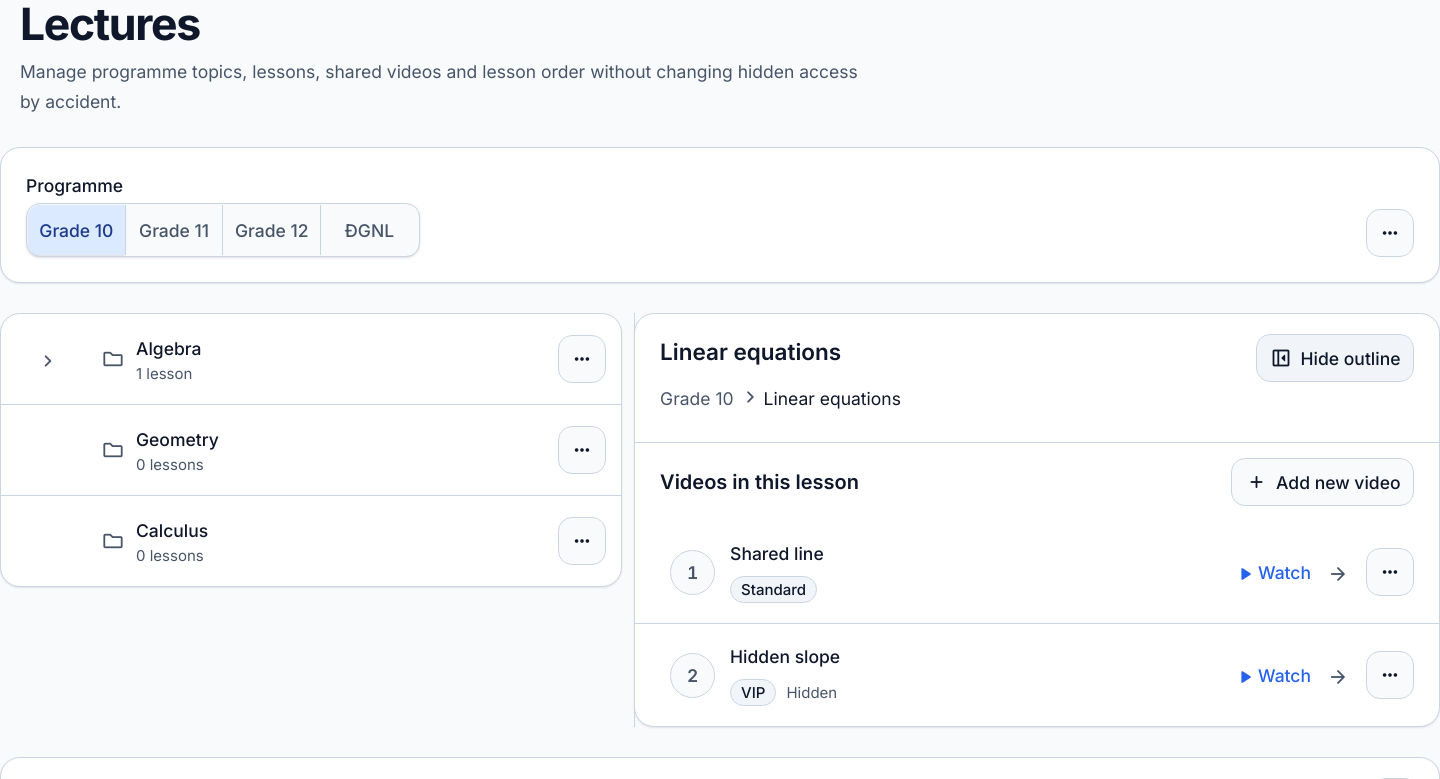
Test: TeacherLecturesPage curriculum management › keeps stale shared-video edits open, retains the draft, and disables duplicate resubmit
Click the button named "Unit actions for Shared line" at (1390, 572), box [1366,548,1414,596]
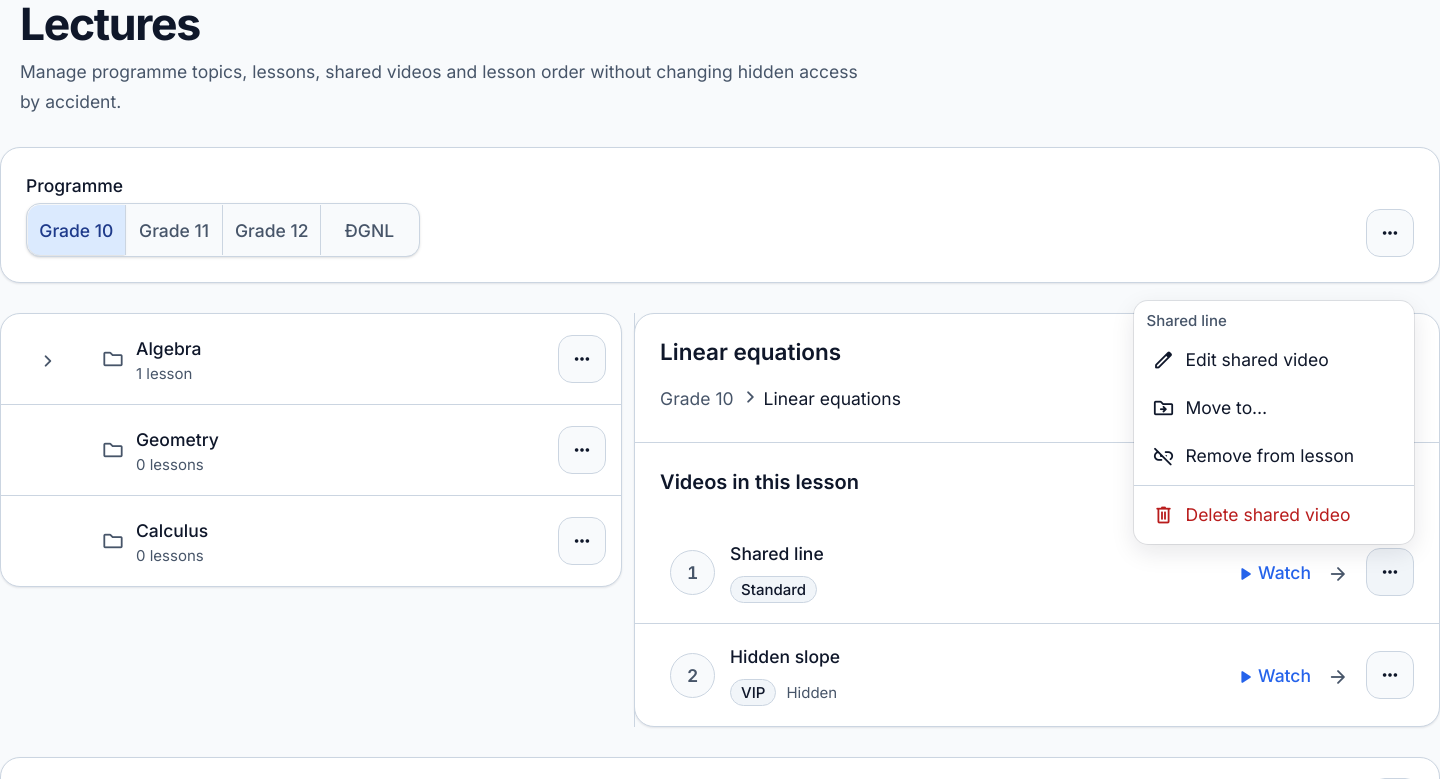
Click the menu item "Edit shared video" at (1240, 360), box [1152,348,1329,372]
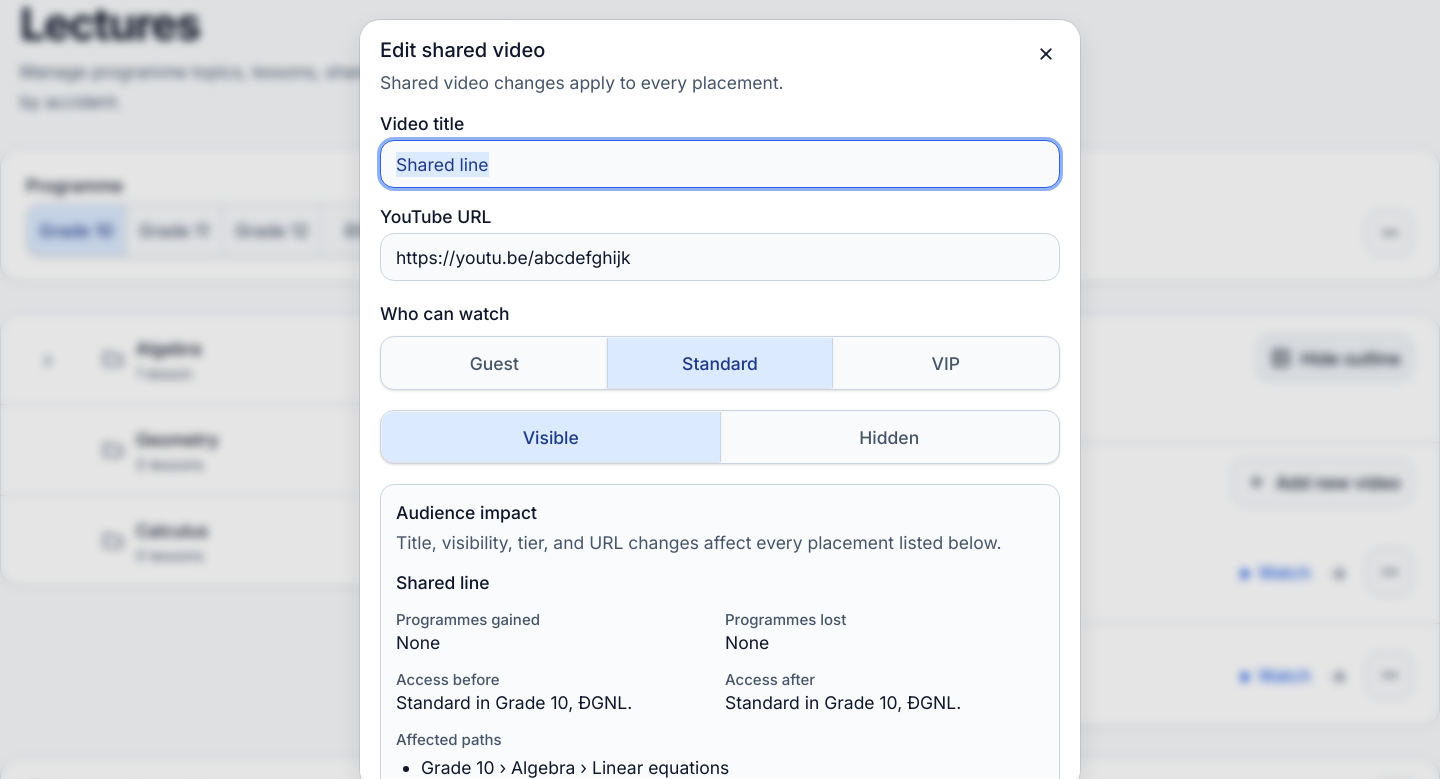
Replace the text in the field labelled "Video title" with "Retried title" at (720, 164), box [380,140,1060,188]
(page scrolled)
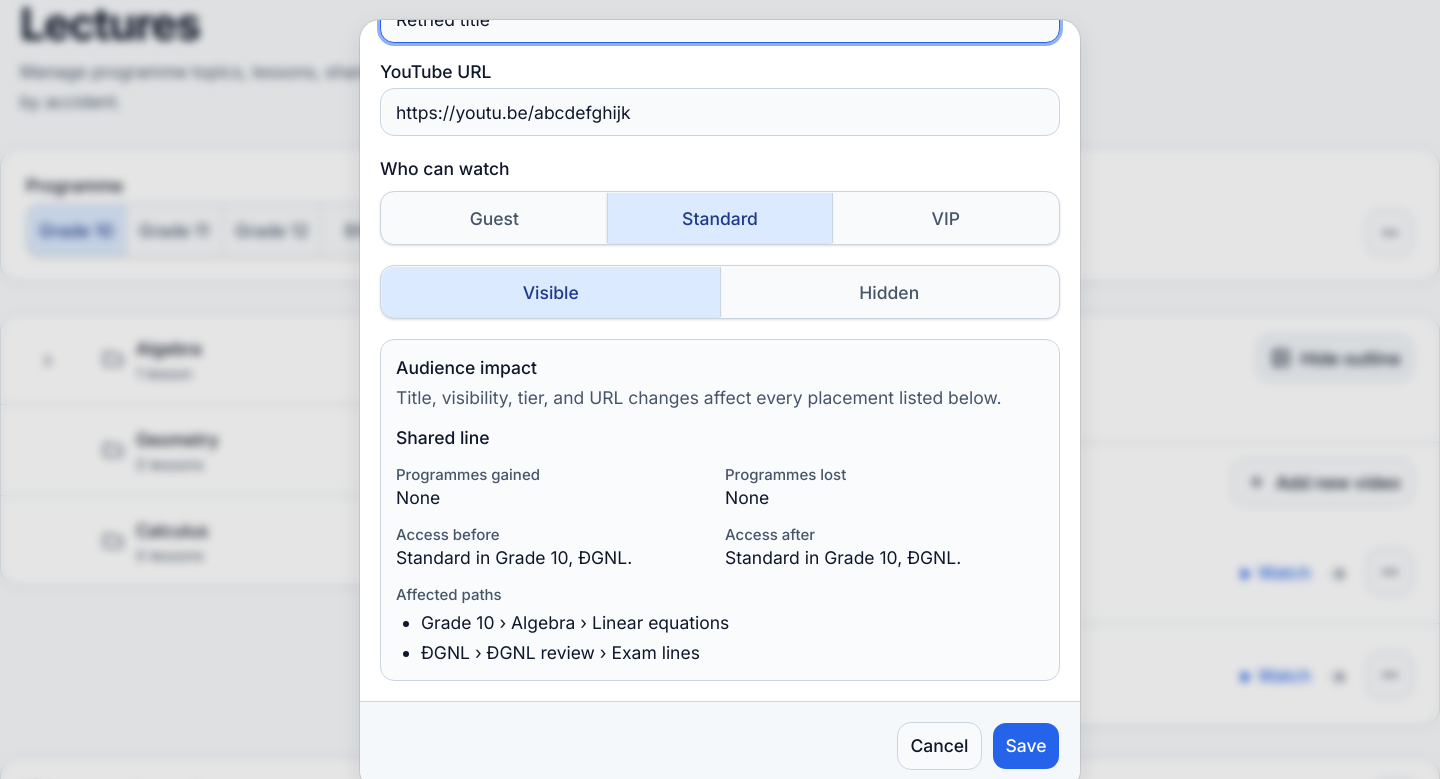
Click the button "Save" at (1026, 746), box [992,722,1060,770]
(page scrolled)
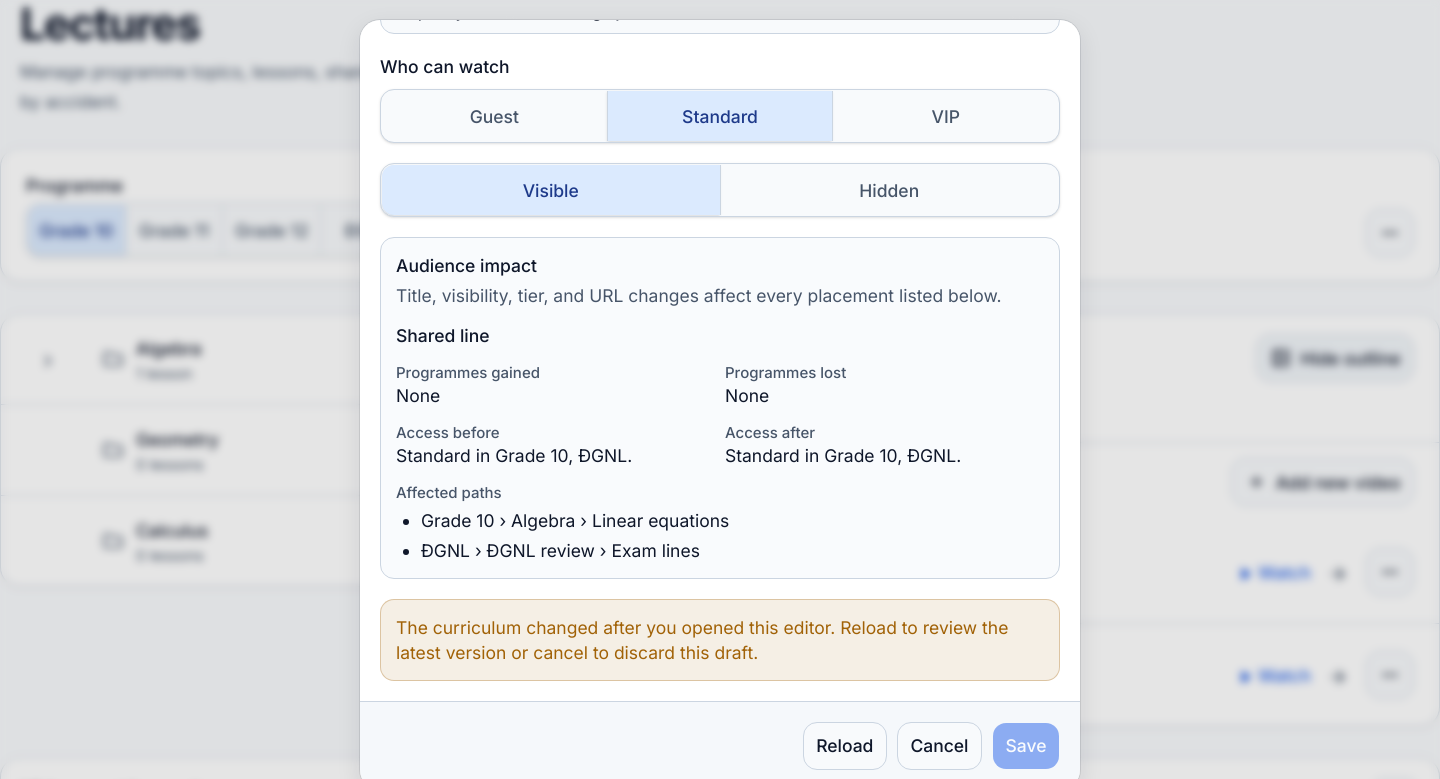
Check: the text "curriculum changed" is shown, box [396,617,1008,663]
Check: the button "Save" is disabled, box [992,722,1060,770]
Click the button "Reload" at (845, 746), box [803,722,887,770]
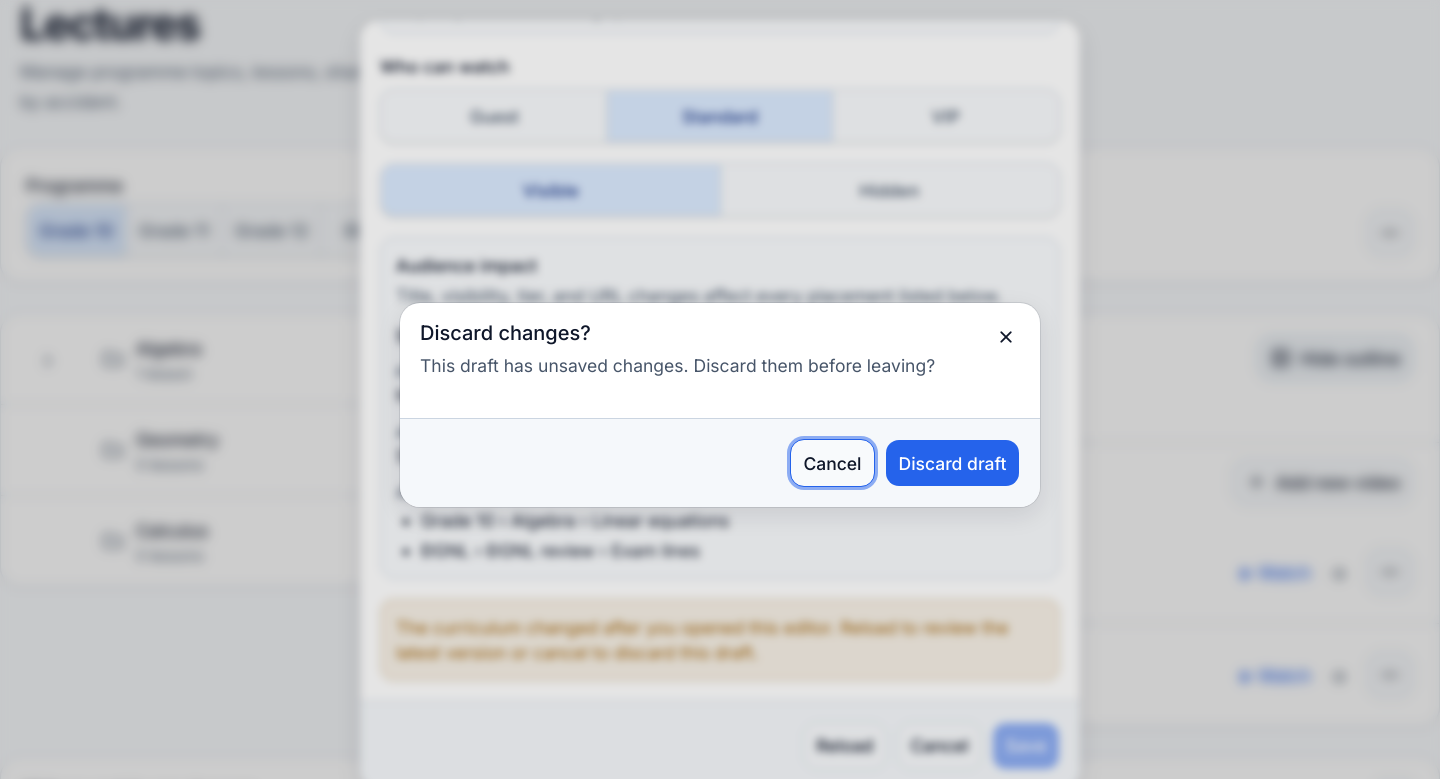
Check: the heading "Discard changes?" is shown, box [420,321,591,345]
